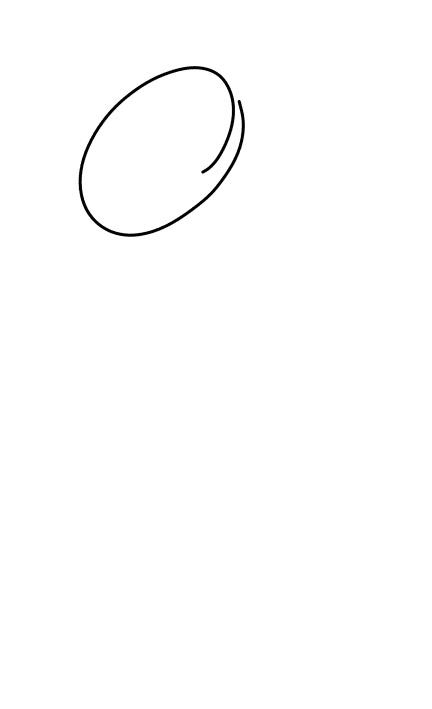Circle: (75, 61, 250, 242)
